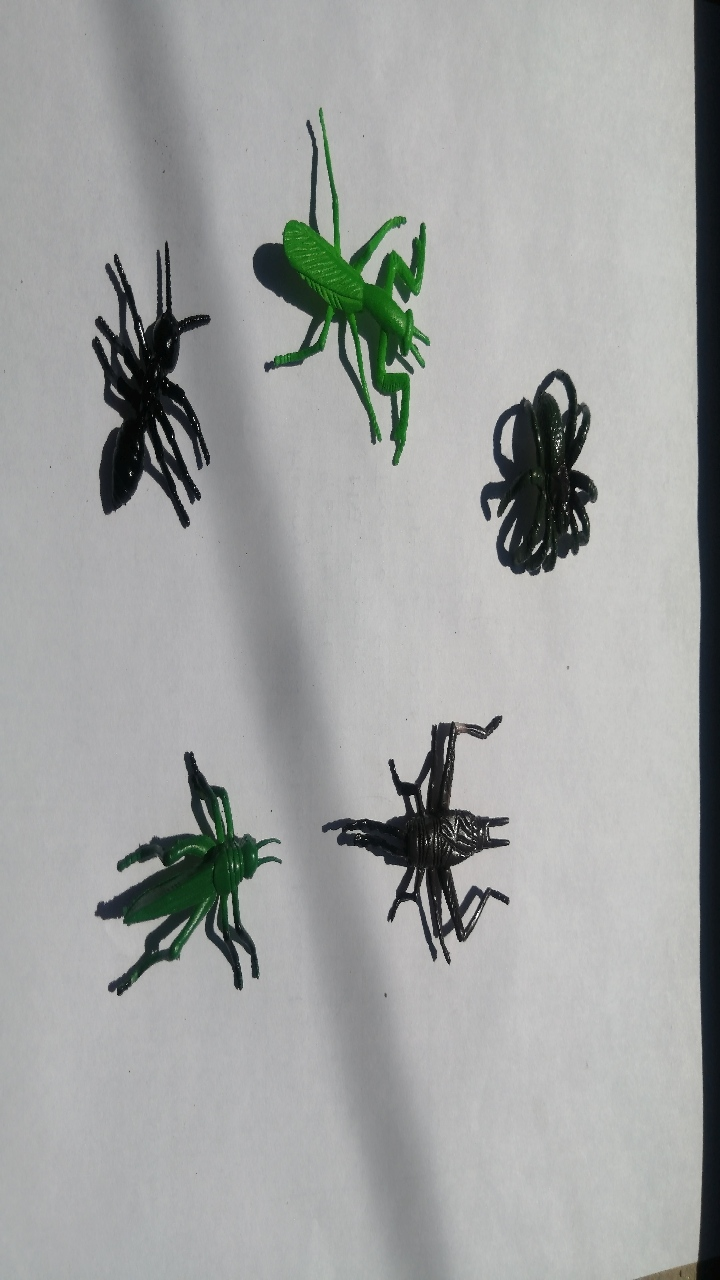intruso: (232, 65, 448, 520), (63, 722, 274, 1028), (311, 692, 528, 980), (51, 208, 220, 571), (444, 319, 609, 597)
